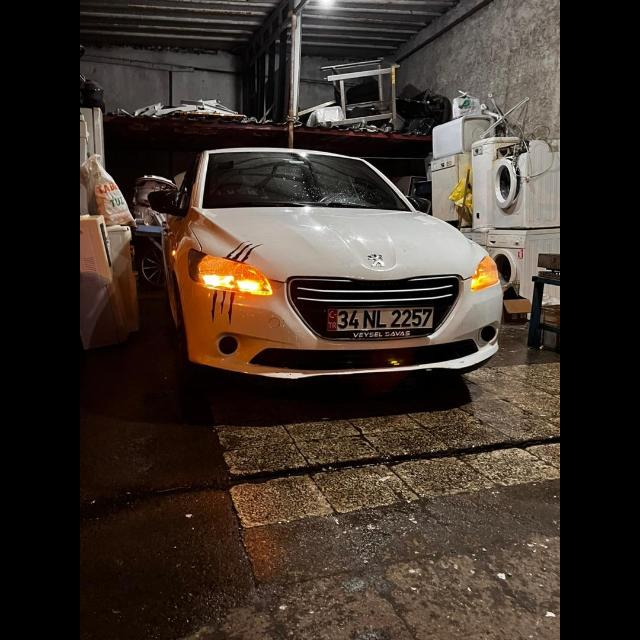Plaka: (326, 307, 434, 331)
